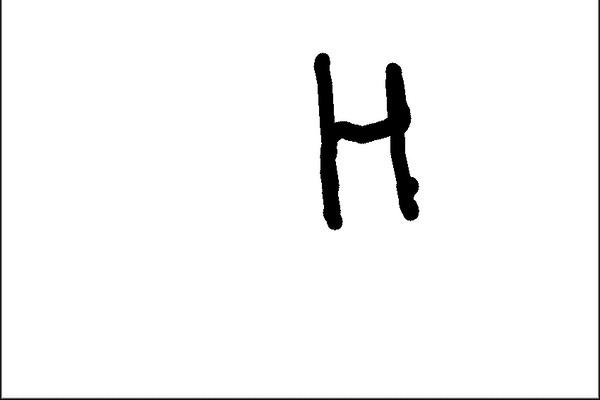H: (306, 48, 427, 231)
